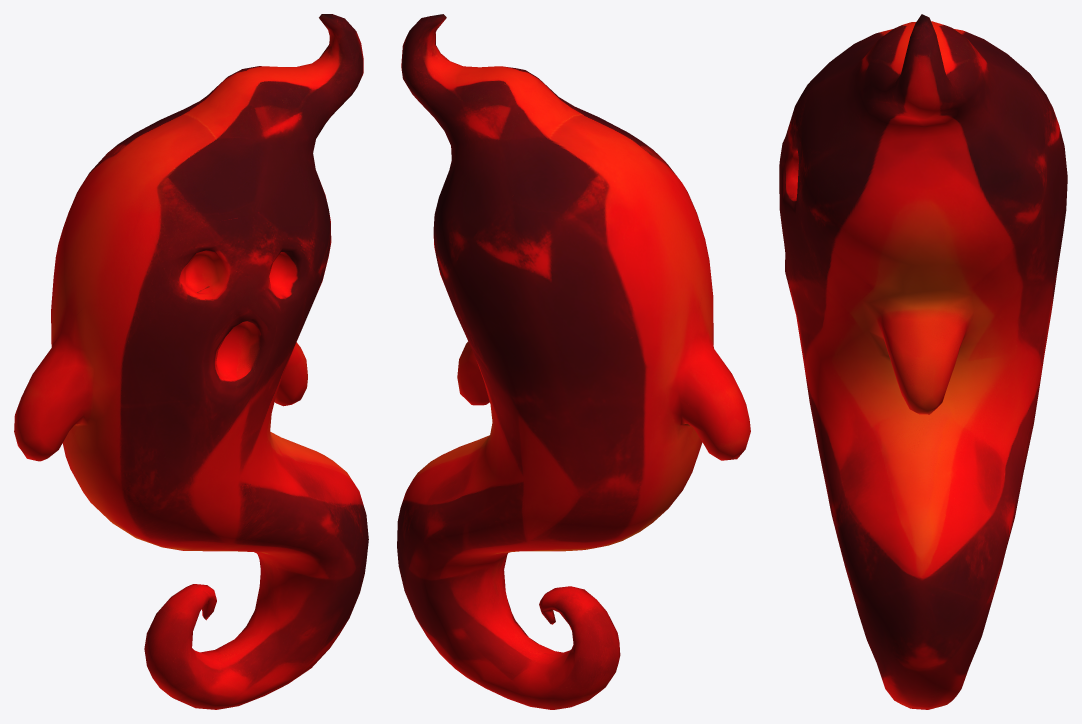
Rendered from spark.glb.
3 views of the same model, side by side, from view 1: azimuth 30°, elevation 25°; view 2: azimuth 150°, elevation 25°; view 3: azimuth 270°, elevation 25° (orthographic). The views are drawn at different scales.
Bounding box in the file's own units: 1.04 × 1.91 × 0.6855.
Materials: 1 (1 with a texture image).
